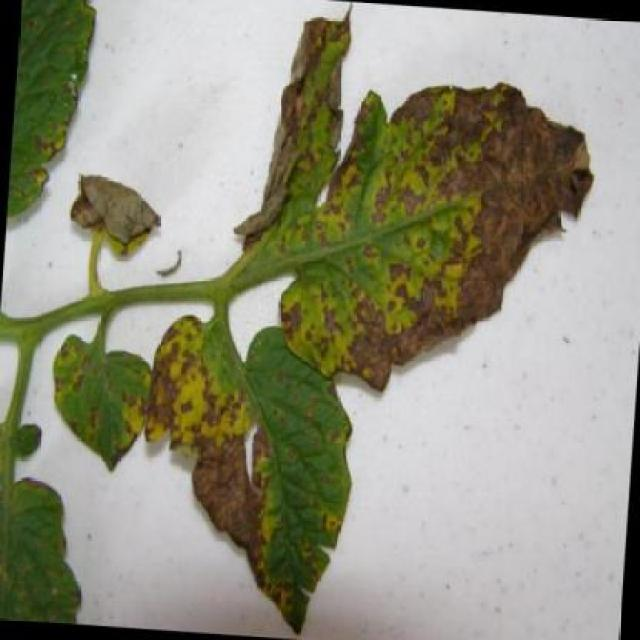Septoria leaf spot: (267, 70, 615, 407), (117, 295, 374, 639), (216, 2, 364, 258), (3, 0, 108, 262), (0, 407, 102, 624), (47, 323, 162, 483)
